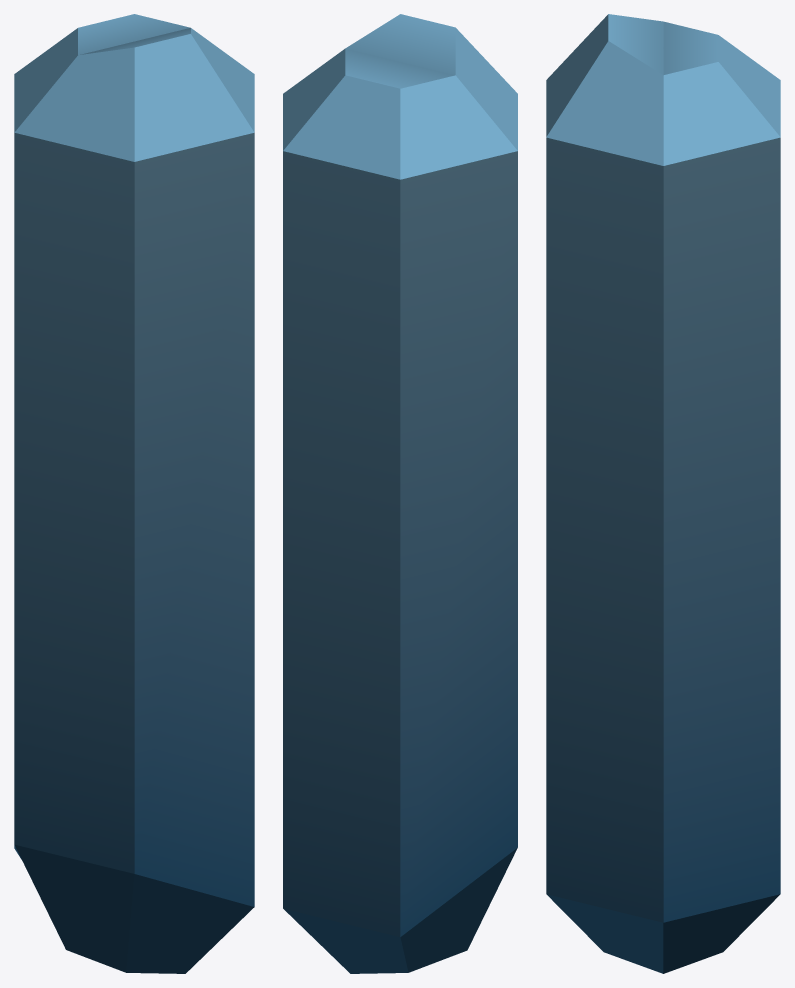
The model's file is geology-crystals-icecrystal_v8.fbx.
The picture shows the model from 3 angles, left to right: view 1: azimuth 30°, elevation 25°; view 2: azimuth 150°, elevation 25°; view 3: azimuth 270°, elevation 25°; orthographic projection. The views are drawn at different scales.
Parts seen in each view (by area): view 1: IceCrystal_v8; view 2: IceCrystal_v8; view 3: IceCrystal_v8.
Part boxes in pixels (<box>): IceCrystal_v8: <box>14,14,254,973</box>; IceCrystal_v8: <box>283,14,517,973</box>; IceCrystal_v8: <box>546,14,780,973</box>.
Bounding box in the file's own units: 1.48 × 5.56 × 1.28.
